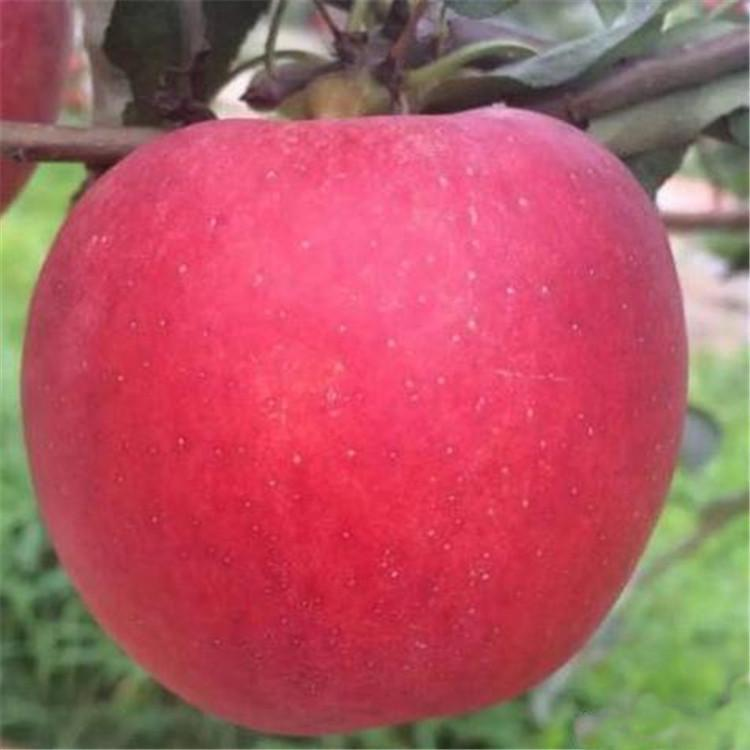apple: (19, 107, 687, 741)
